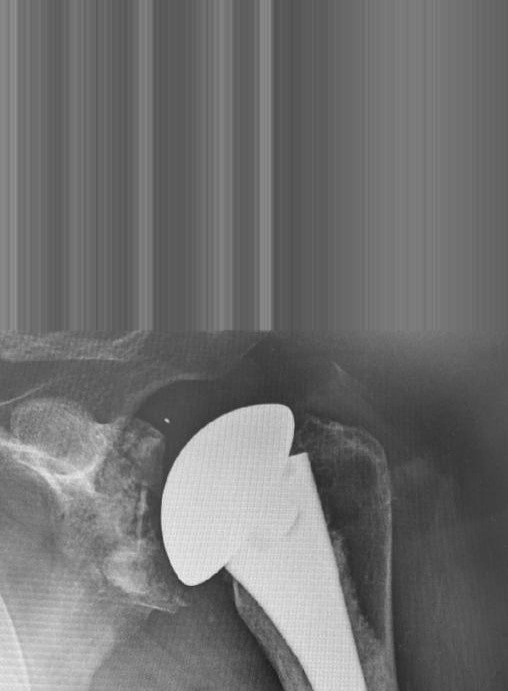Shoulder - Anotomical - Stryker: (146, 387, 353, 589)
